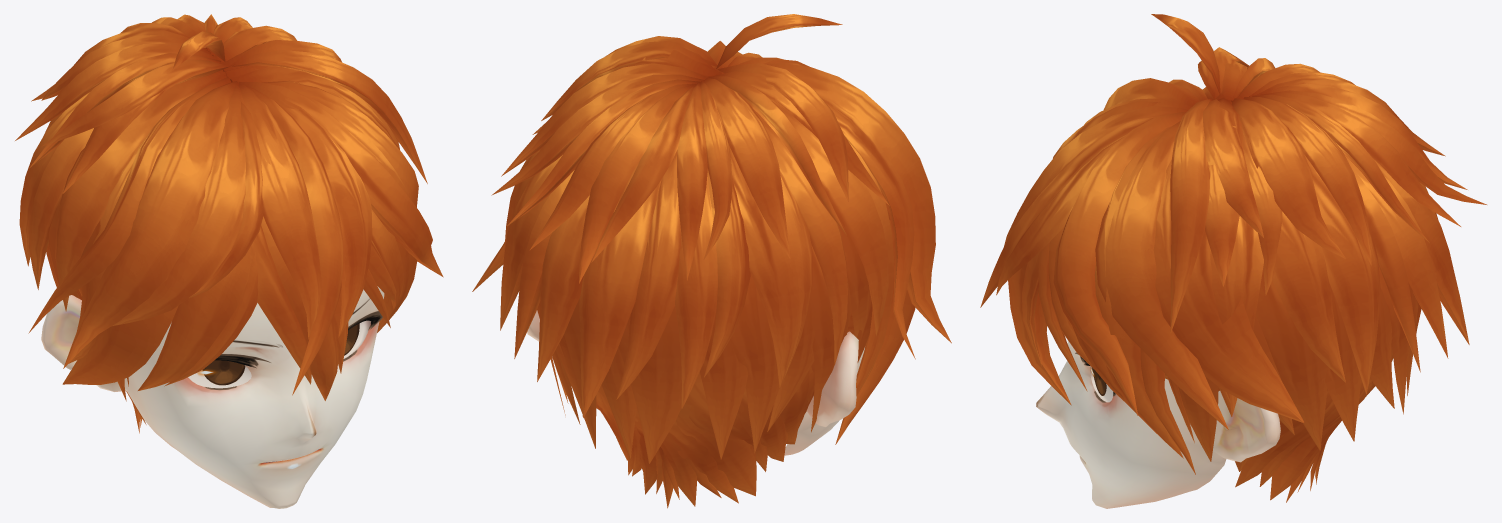
The model's file is imprint-kai.glb.
The picture shows the model from 3 angles, left to right: view 1: azimuth 30°, elevation 25°; view 2: azimuth 150°, elevation 25°; view 3: azimuth 270°, elevation 25°; orthographic projection. The views are drawn at different scales.
Parts seen in each view (by area): view 1: Echo_Hair, Echo_Face, Echo_EyeR; view 2: Echo_Hair, Echo_Face; view 3: Echo_Hair, Echo_Face.
Part boxes in pixels (box(x1,y1,x2,y2)): Echo_Hair: box(15, 14, 443, 433); Echo_Face: box(41, 286, 384, 508); Echo_EyeR: box(197, 360, 245, 385); Echo_Hair: box(472, 14, 951, 508); Echo_Face: box(527, 310, 864, 455); Echo_Hair: box(980, 14, 1486, 502); Echo_Face: box(1036, 340, 1280, 508).
Size of the model in its own units: 2.18 by 2.42 by 2.42.
10 materials, 10 textured.
